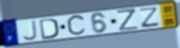6: (90, 11, 109, 34)
C: (66, 13, 88, 38)
D: (38, 17, 60, 41)
J: (21, 19, 38, 42)
Z: (116, 8, 139, 32), (139, 6, 160, 29)
